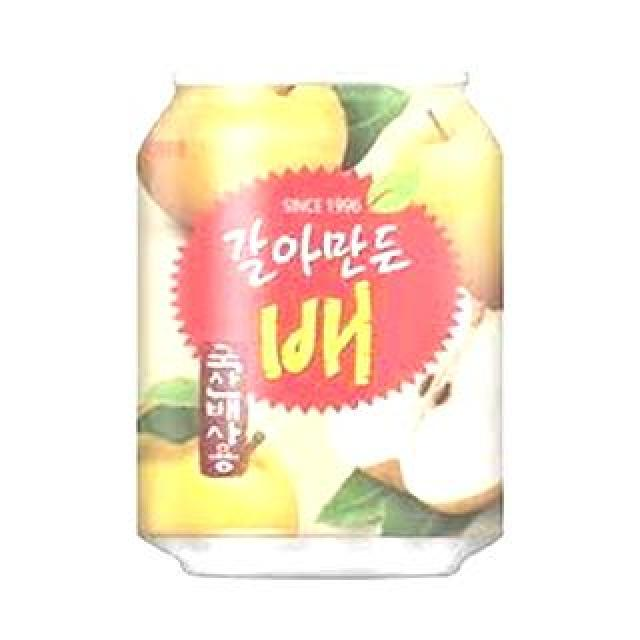Can: (134, 67, 516, 581)
